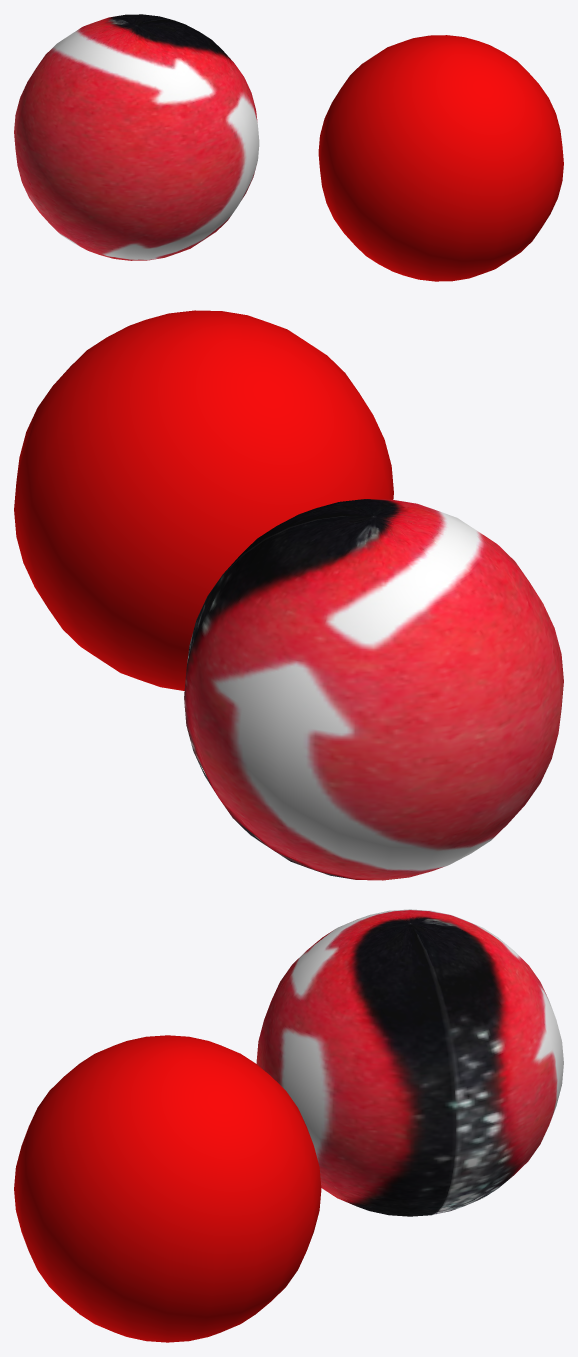
The model's file is ball.fbx.
The picture shows the model from 3 angles, top to bottom: view 1: azimuth 30°, elevation 25°; view 2: azimuth 150°, elevation 25°; view 3: azimuth 270°, elevation 25°; orthographic projection. The views are drawn at different scales.
Visible parts, largest first — view 1: pSphere1, pSphere2; view 2: pSphere1, pSphere2; view 3: pSphere2, pSphere1.
Boxes of the visible parts, box(x1,y1,x2,y2) form: pSphere1: box(14, 14, 259, 260); pSphere2: box(318, 35, 563, 281); pSphere1: box(184, 499, 563, 880); pSphere2: box(14, 310, 393, 690); pSphere2: box(14, 1035, 321, 1342); pSphere1: box(256, 909, 563, 1216).
Bounding box in the file's own units: 146 × 74.36 × 133.
Materials: 2 (1 with a texture image).
